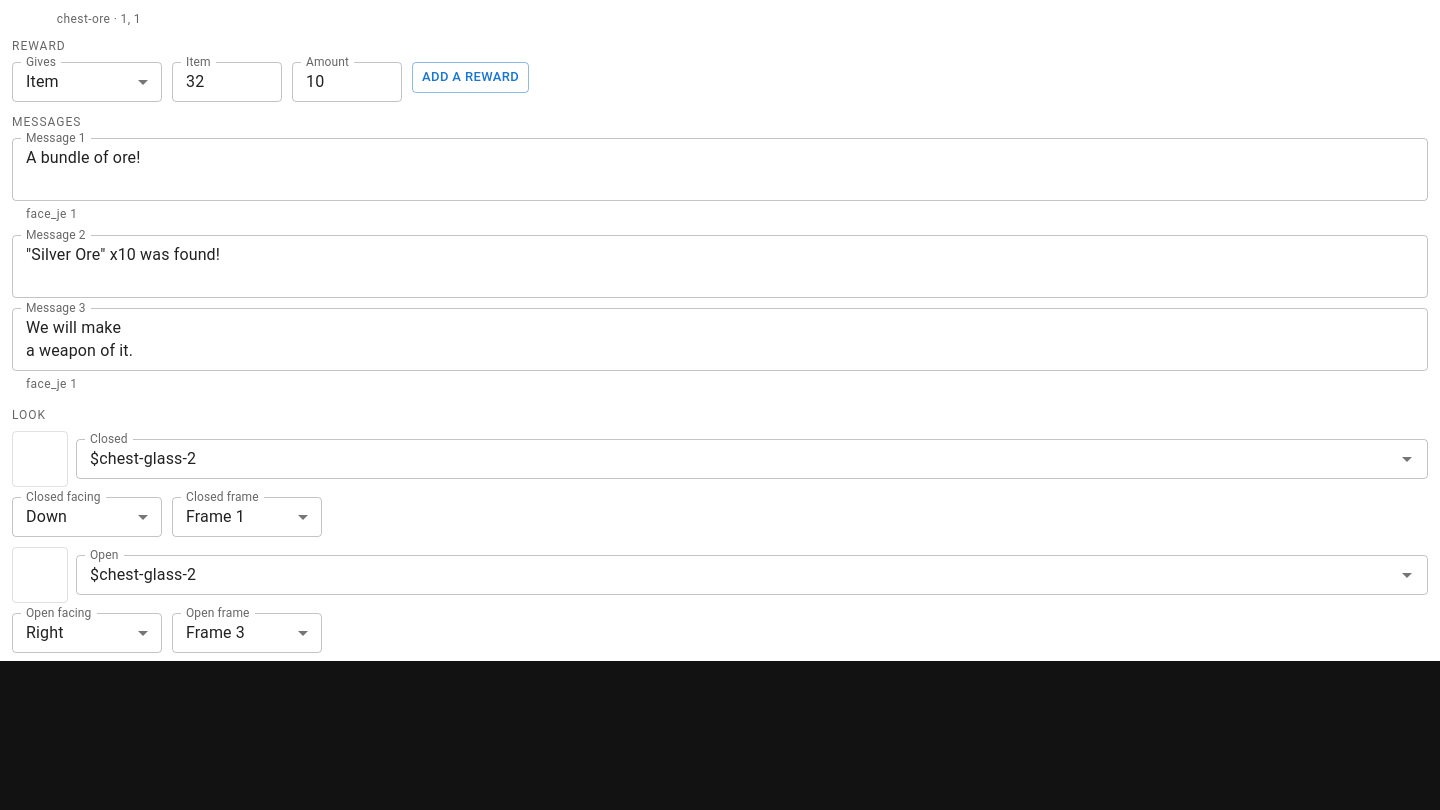
QuickPanelHost › shows why a change could not be made
Replace the text in the field labelled "Amount" with "25" at (347, 82), box x1=292 y1=62 x2=402 y2=102
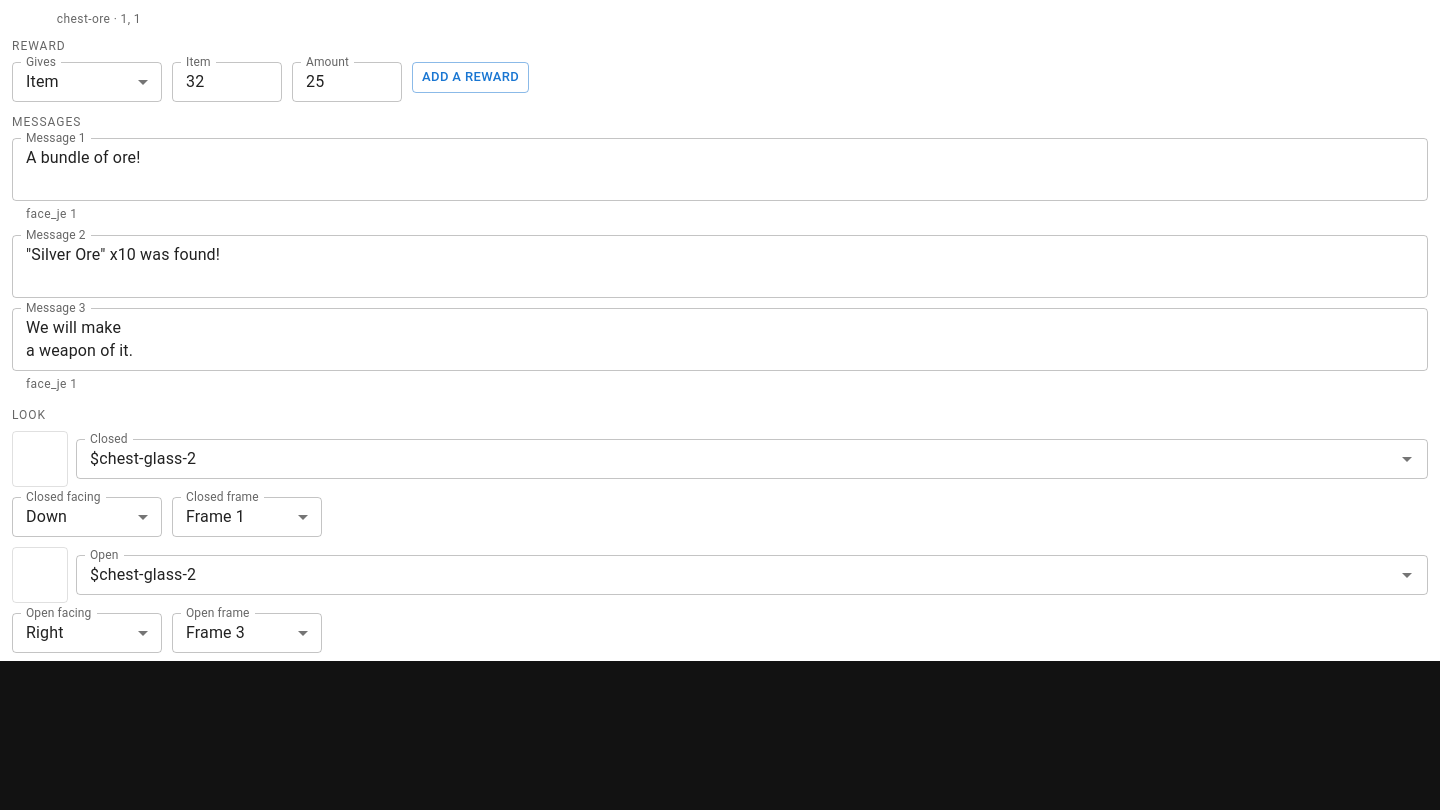
Leave the field labelled "Amount", box x1=292 y1=62 x2=402 y2=102
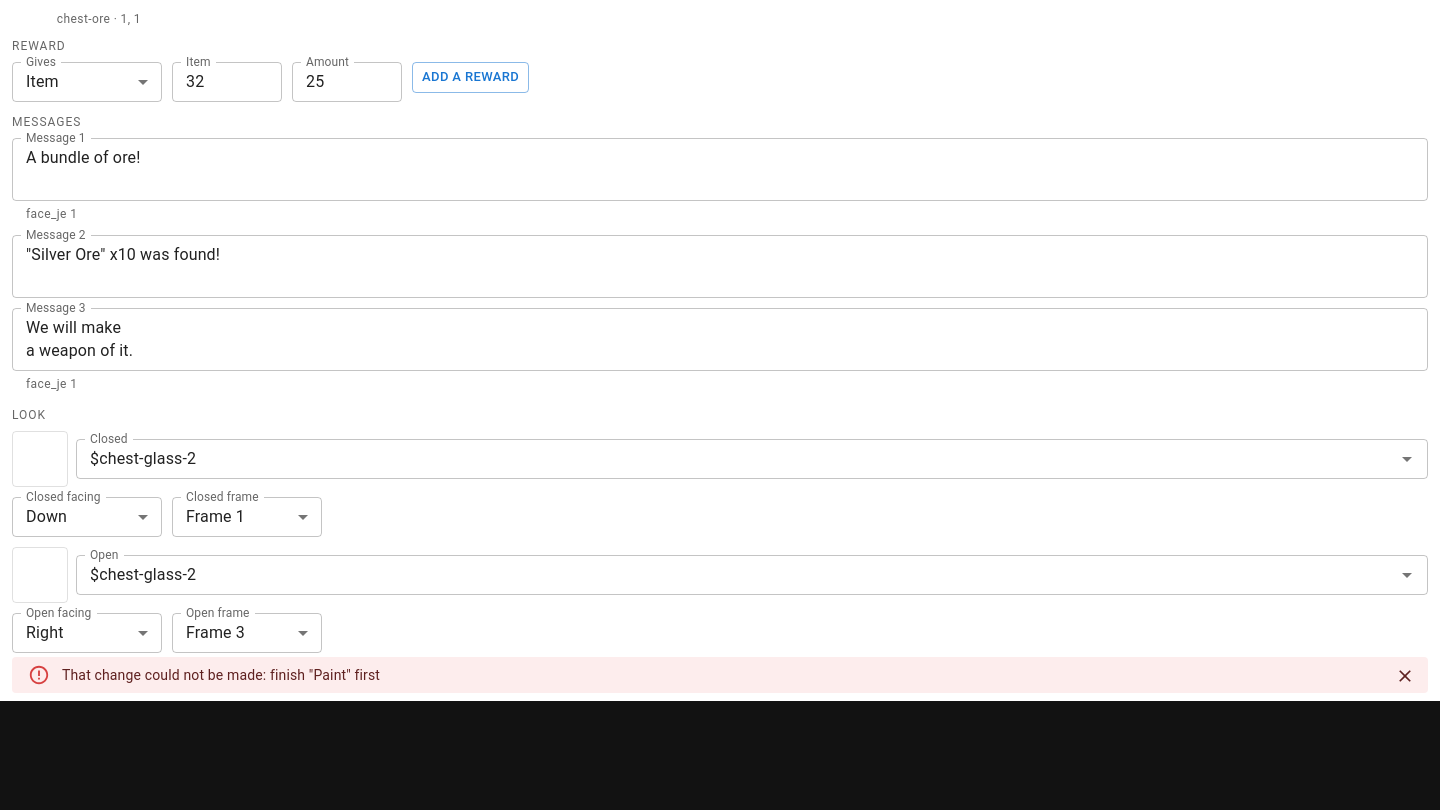
Now the message reads "That change could not be made: finish \"Paint\" first", box x1=62 y1=667 x2=380 y2=683
